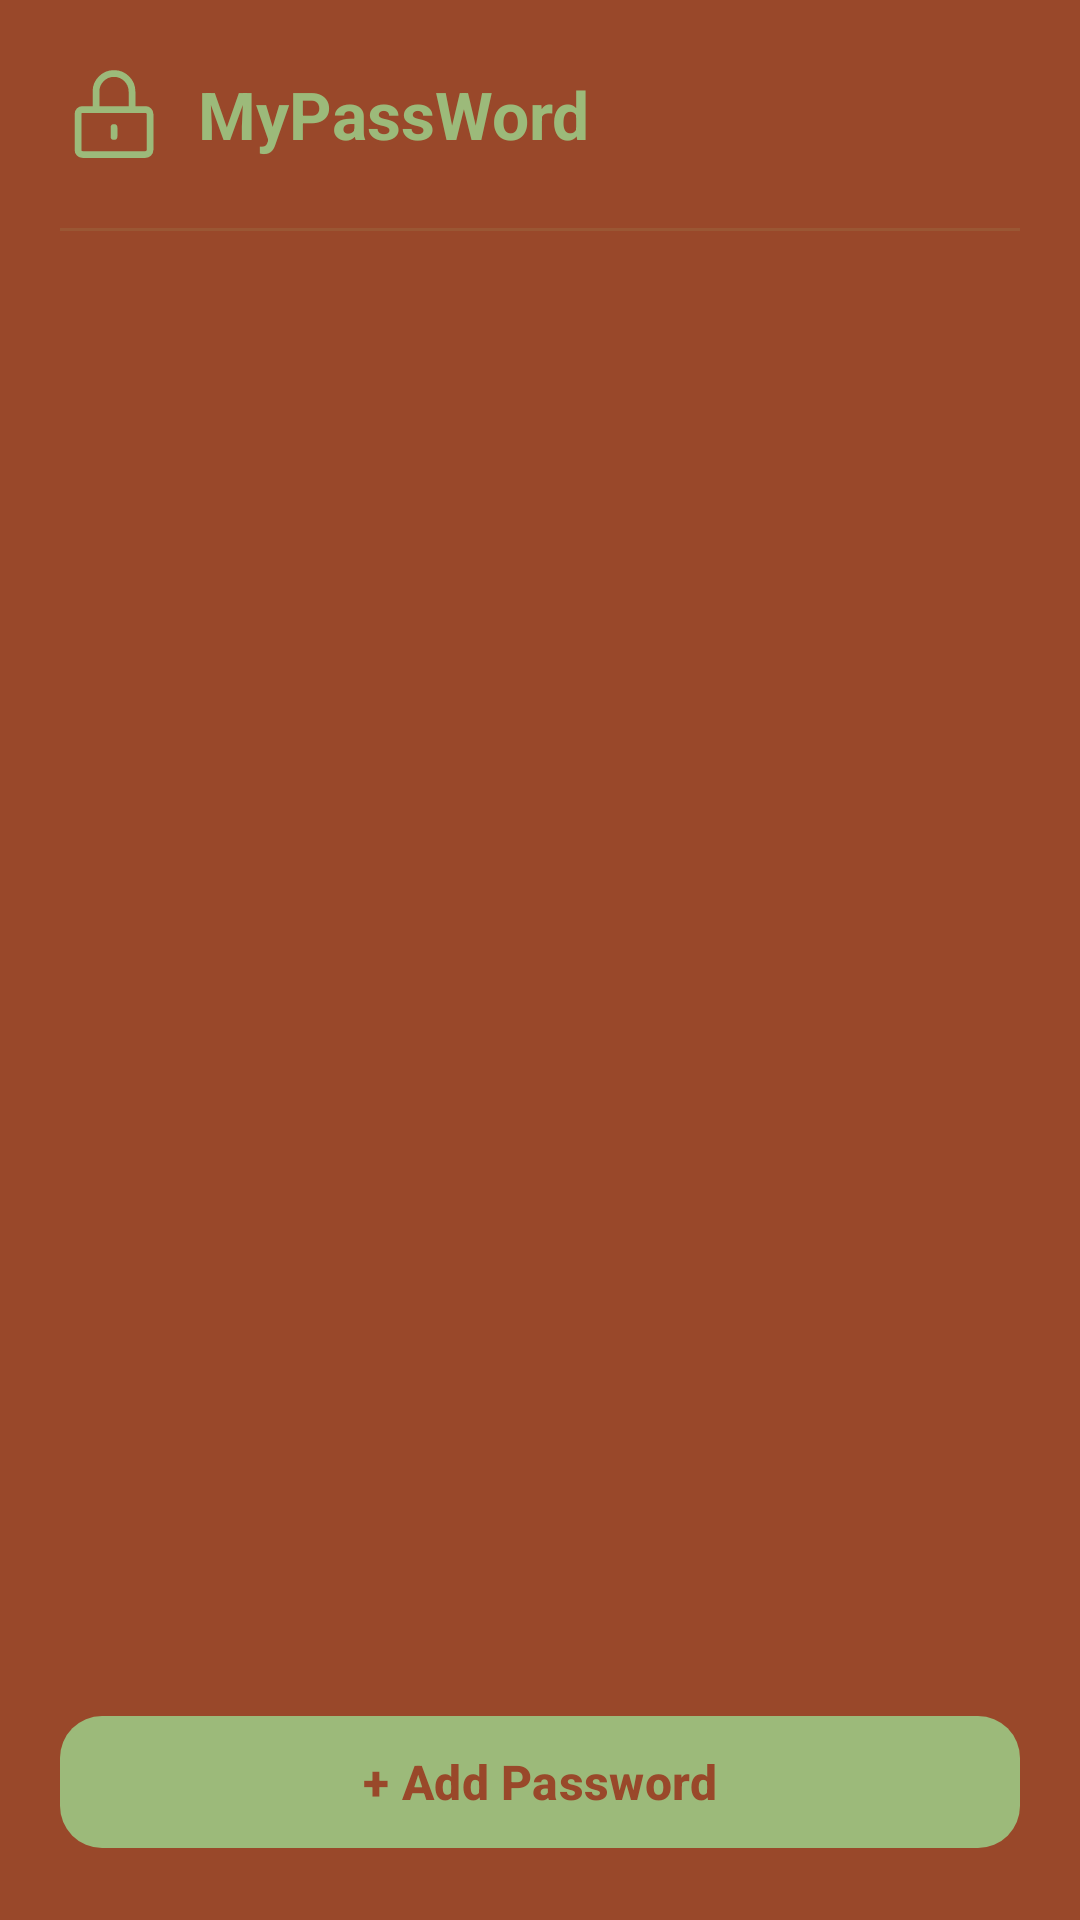

Icon click points for this 1080*1920 phone screenshot, format (x,y):
lock: (114,114)
